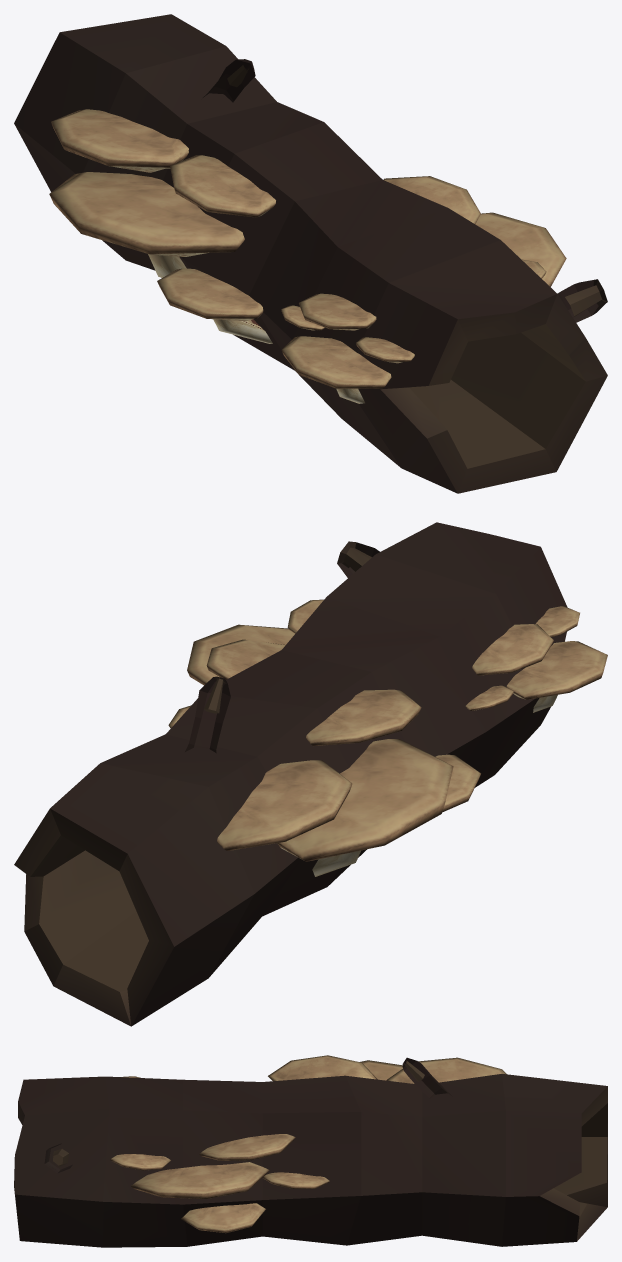
Rendered from log_fallen_mushrooms.glb.
3 renders of one model, top to bottom at view 1: azimuth 30°, elevation 25°; view 2: azimuth 150°, elevation 25°; view 3: azimuth 270°, elevation 25°, orthographic. The views are drawn at different scales.
Parts seen in each view (by area): view 1: mesh_log_fallen_01.003; view 2: mesh_log_fallen_01.003; view 3: mesh_log_fallen_01.003.
Part boxes in pixels (x1,y1,x2,y2): mesh_log_fallen_01.003: (14, 14, 607, 493); mesh_log_fallen_01.003: (14, 522, 607, 1026); mesh_log_fallen_01.003: (14, 1055, 607, 1247).
Size of the model in its own units: 0.8059 by 0.5154 by 1.6.
Materials: 2 (1 with a texture image).
